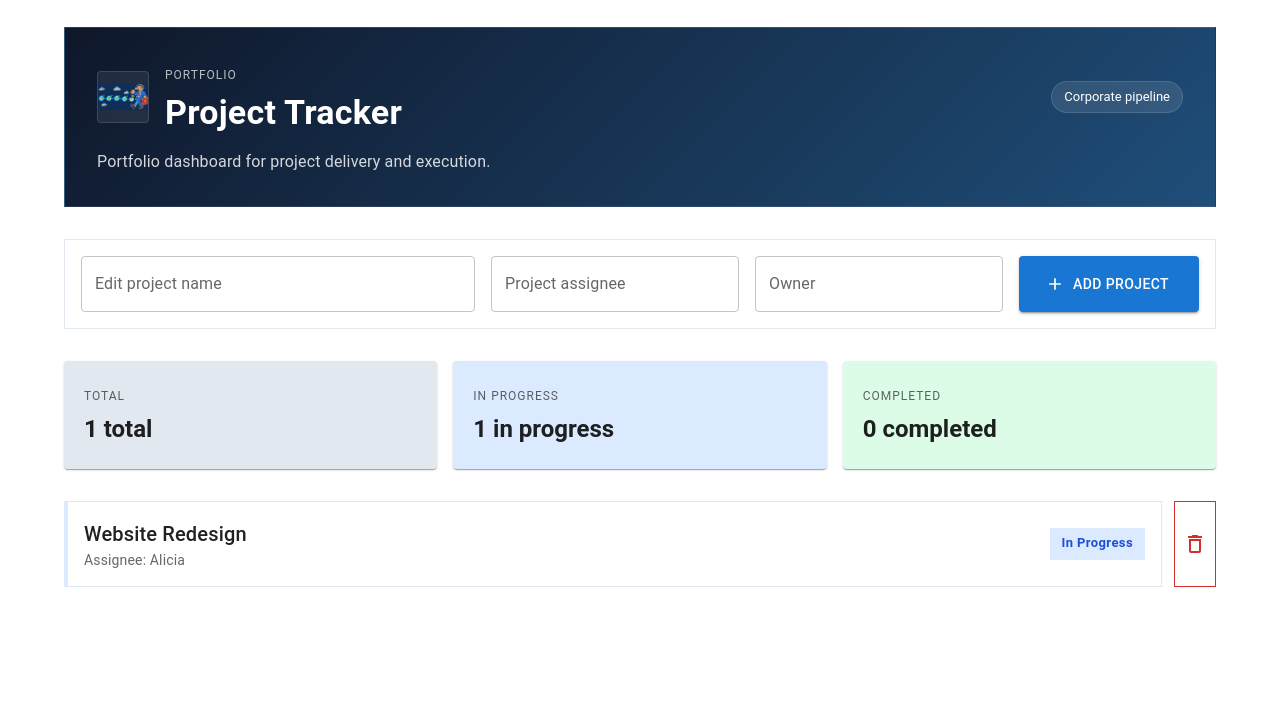
Test: shows project detail and tasks when a project is selected
Click the button with aria-label "select website redesign".
click(165, 534)  # box [64,501,1162,587]
(page scrolled)
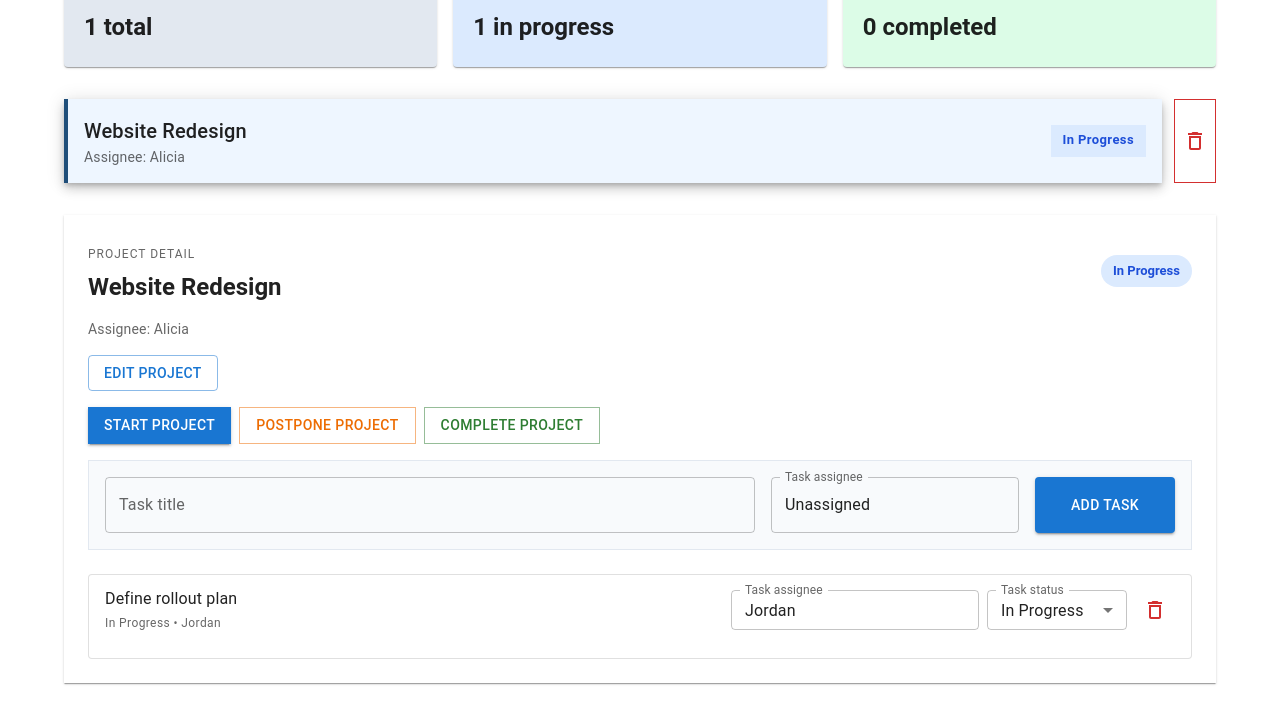
expect the text "Project Detail" is shown: met, box [88,247,195,261]
expect the text "Define rollout plan" is shown: met, box [105,587,237,611]
